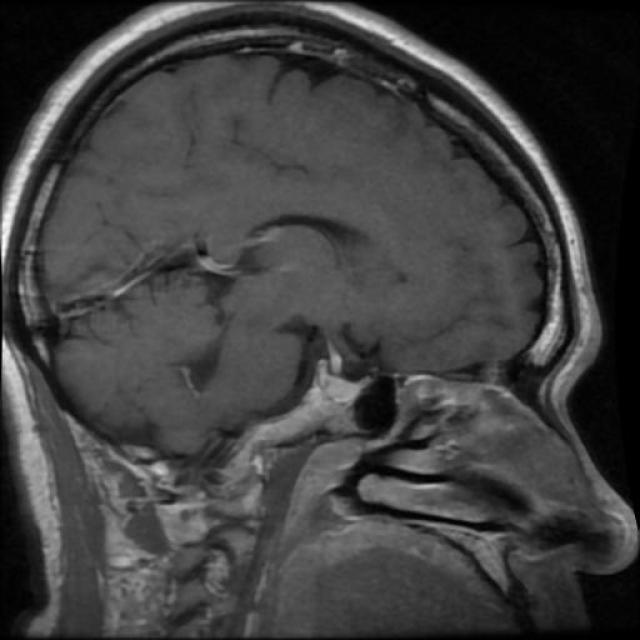pituitary: (288, 336, 374, 446)
